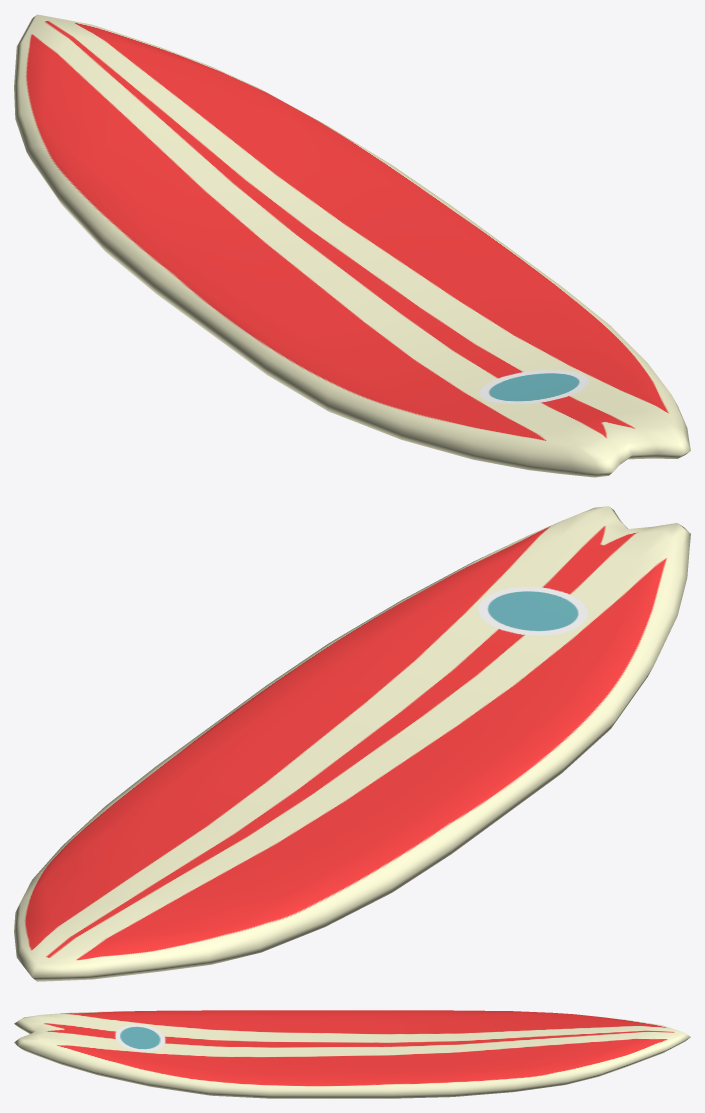
Rendered from surfboard.fbx.
The picture shows the model from 3 angles, top to bottom: view 1: azimuth 30°, elevation 25°; view 2: azimuth 150°, elevation 25°; view 3: azimuth 270°, elevation 25°; orthographic projection. The views are drawn at different scales.
Parts seen in each view (by area): view 1: pCube1; view 2: pCube1; view 3: pCube1.
Part boxes in pixels (box(x1,y1,x2,y2)): pCube1: box(14, 14, 690, 477); pCube1: box(14, 506, 690, 981); pCube1: box(14, 1010, 690, 1098).
Size of the model in its own units: 5.35 by 1.14 by 19.05.
